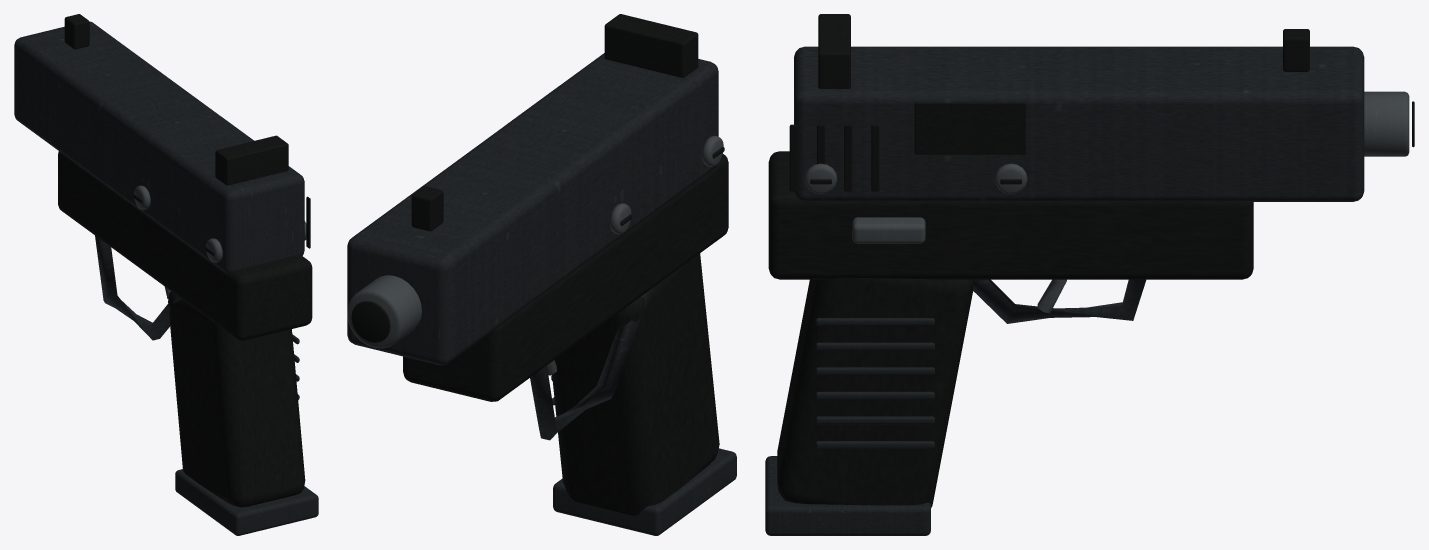
File: glock.glb
The picture shows the model from 3 angles, left to right: view 1: azimuth 30°, elevation 25°; view 2: azimuth 150°, elevation 25°; view 3: azimuth 270°, elevation 25°; orthographic projection. The views are drawn at different scales.
Parts seen in each view (by area): view 1: weapon_Polymer, slide_Weapon finish / Parkerized steel, magazine_Parkerized steel, slide_Polymer, weapon_Parkerized steel, weapon_Machined edges; view 2: slide_Weapon finish / Parkerized steel, weapon_Polymer, slide_Polymer, magazine_Parkerized steel, weapon_Machined edges, weapon_Parkerized steel; view 3: slide_Weapon finish / Parkerized steel, weapon_Polymer, weapon_Parkerized steel, weapon_Machined edges, magazine_Parkerized steel, slide_Polymer.
Part boxes in pixels (x1,y1,x2,y2): weapon_Polymer: [58, 151, 312, 507]; slide_Weapon finish / Parkerized steel: [14, 21, 304, 273]; magazine_Parkerized steel: [175, 469, 318, 535]; slide_Polymer: [64, 14, 310, 248]; weapon_Parkerized steel: [95, 235, 299, 399]; weapon_Machined edges: [134, 185, 306, 262]; slide_Weapon finish / Parkerized steel: [347, 53, 718, 365]; weapon_Polymer: [351, 147, 728, 515]; slide_Polymer: [411, 14, 698, 231]; magazine_Parkerized steel: [553, 448, 736, 535]; weapon_Machined edges: [347, 135, 723, 348]; weapon_Parkerized steel: [530, 288, 652, 440]; slide_Weapon finish / Parkerized steel: [794, 46, 1364, 201]; weapon_Polymer: [768, 101, 1414, 507]; weapon_Parkerized steel: [815, 279, 1146, 448]; weapon_Machined edges: [804, 91, 1409, 243]; magazine_Parkerized steel: [765, 456, 930, 535]; slide_Polymer: [789, 14, 1309, 191].
Size of the model in its own units: 0.0575 by 0.194 by 0.239.
4 materials, 4 textured.
